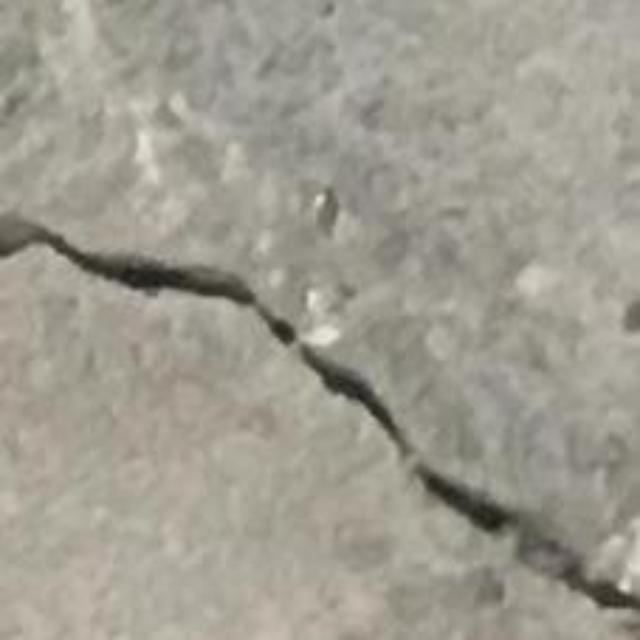crack: (0, 215, 639, 611)
